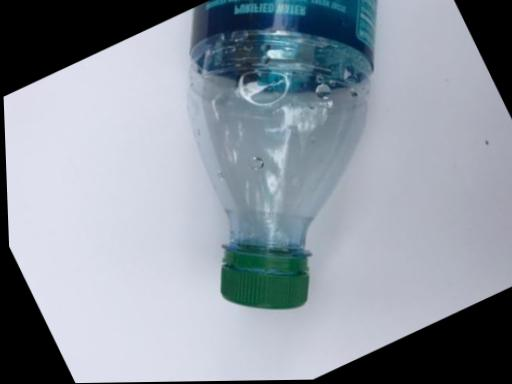plastic: (98, 0, 512, 340)
